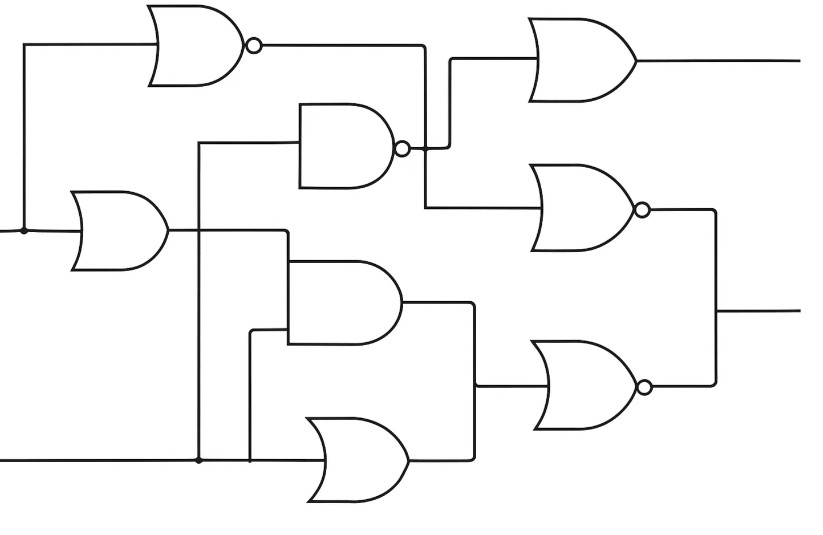and gate: (285, 258, 407, 347)
nand gate: (300, 102, 413, 188)
nor gate: (531, 339, 654, 428), (531, 163, 651, 249), (146, 5, 262, 84)
or gate: (527, 16, 639, 102), (304, 418, 413, 504), (68, 191, 171, 270)
